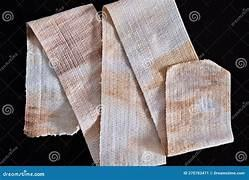cotton: (24, 0, 232, 165), (106, 0, 197, 150), (28, 5, 101, 161), (100, 9, 165, 165), (166, 60, 233, 155), (24, 28, 78, 136)
